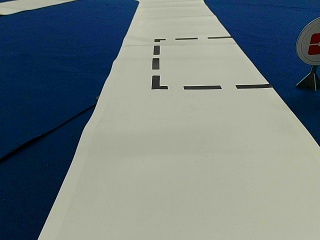company: (296, 18, 320, 63)
